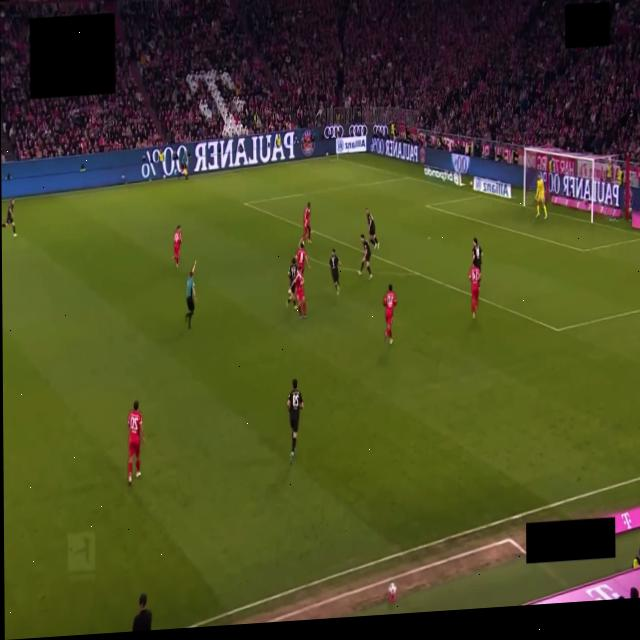player: (127, 401, 143, 485), (287, 380, 302, 465), (383, 284, 395, 344), (293, 270, 306, 318), (358, 234, 371, 279), (468, 266, 479, 319), (295, 240, 311, 274), (2, 199, 16, 236), (286, 258, 296, 308), (329, 250, 340, 295), (535, 174, 546, 219), (366, 208, 378, 249), (173, 225, 181, 267), (302, 203, 310, 243), (472, 238, 481, 268)
referee: (185, 261, 195, 329)
